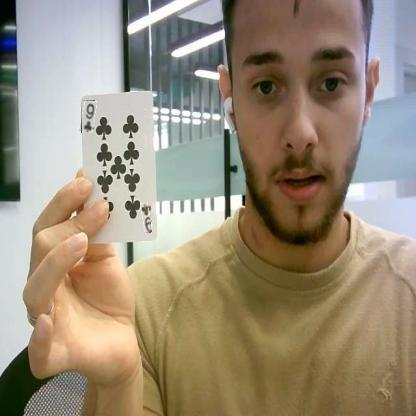9C: (81, 100, 95, 133), (142, 203, 151, 233)
